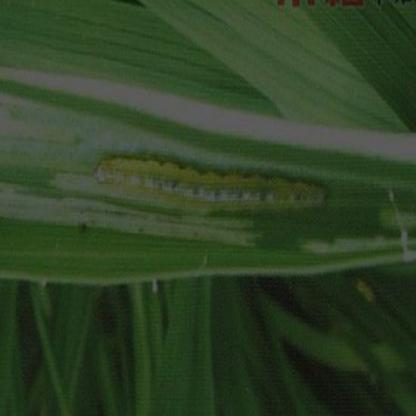leaf-folder: (101, 134, 363, 235)
